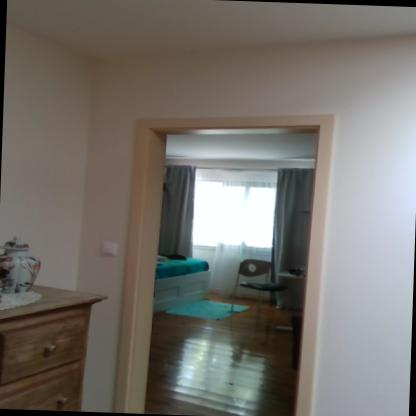open: (102, 98, 341, 416)
